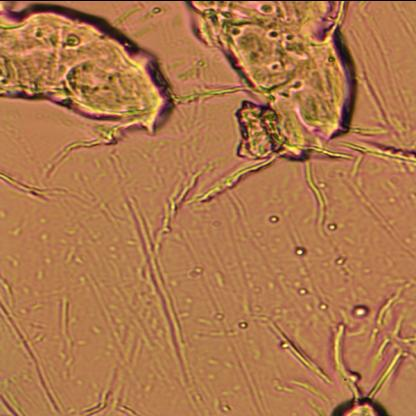Normal: (0, 0, 197, 160), (202, 0, 384, 171)
